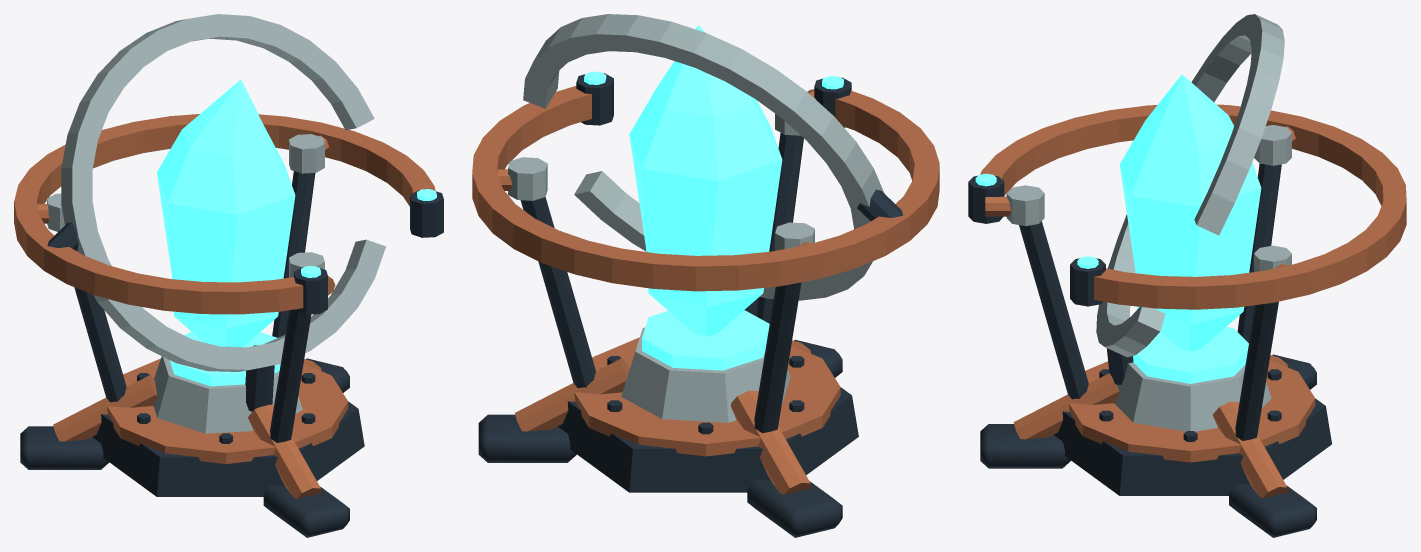
The picture shows the model from 3 angles, left to right: view 1: azimuth 30°, elevation 25°; view 2: azimuth 150°, elevation 25°; view 3: azimuth 270°, elevation 25°; orthographic projection. The views are drawn at different scales.
Visible parts, largest first — view 1: Faceted suspended energy prism, Inclined aluminium induction arc, Primary copper containment arc, Foundation • six sided plinth, Copper foundation rim, Reactor socket, Upright field support.002, Outrigger ground shoe.001, Outrigger ground shoe.002, Upright field support.001, Angled tripod brace.002, Angled tripod brace.001 (+10 smaller); view 2: Primary copper containment arc, Faceted suspended energy prism, Inclined aluminium induction arc, Foundation • six sided plinth, Copper foundation rim, Reactor socket, Luminous lower seat, Upright field support.001, Upright field support, Outrigger ground shoe, Outrigger ground shoe.001, Angled tripod brace.001 (+8 smaller); view 3: Primary copper containment arc, Faceted suspended energy prism, Inclined aluminium induction arc, Foundation • six sided plinth, Copper foundation rim, Reactor socket, Upright field support.002, Luminous lower seat, Upright field support, Outrigger ground shoe.002, Outrigger ground shoe, Angled tripod brace (+9 smaller).
Boxes of the visible parts, <box> form: Faceted suspended energy prism: <box>157,79,295,347</box>; Inclined aluminium induction arc: <box>61,14,385,371</box>; Primary copper containment arc: <box>14,114,435,314</box>; Foundation • six sided plinth: <box>92,401,364,496</box>; Copper foundation rim: <box>107,358,348,463</box>; Reactor socket: <box>153,356,302,433</box>; Upright field support.002: <box>270,309,311,442</box>; Outrigger ground shoe.001: <box>20,426,109,469</box>; Outrigger ground shoe.002: <box>263,485,349,537</box>; Upright field support.001: <box>74,287,126,402</box>; Angled tripod brace.002: <box>248,404,321,498</box>; Angled tripod brace.001: <box>53,375,157,441</box>; Primary copper containment arc: <box>472,86,939,291</box>; Faceted suspended energy prism: <box>629,25,782,336</box>; Inclined aluminium induction arc: <box>523,14,884,300</box>; Foundation • six sided plinth: <box>558,387,858,492</box>; Copper foundation rim: <box>574,337,840,456</box>; Reactor socket: <box>621,327,790,422</box>; Luminous lower seat: <box>642,310,769,370</box>; Upright field support.001: <box>754,282,801,433</box>; Upright field support: <box>520,197,595,387</box>; Outrigger ground shoe: <box>478,414,576,462</box>; Outrigger ground shoe.001: <box>747,479,842,537</box>; Angled tripod brace.001: <box>731,390,811,494</box>; Primary copper containment arc: <box>980,104,1406,309</box>; Faceted suspended energy prism: <box>1119,74,1261,351</box>; Inclined aluminium induction arc: <box>1096,14,1284,357</box>; Foundation • six sided plinth: <box>1054,398,1331,495</box>; Copper foundation rim: <box>1068,360,1315,462</box>; Reactor socket: <box>1114,362,1271,431</box>; Upright field support.002: <box>1019,221,1088,399</box>; Luminous lower seat: <box>1133,327,1248,383</box>; Upright field support: <box>1235,301,1278,440</box>; Outrigger ground shoe.002: <box>980,424,1070,468</box>; Outrigger ground shoe: <box>1229,484,1316,537</box>; Angled tripod brace: <box>1212,401,1288,497</box>.
Bounding box in the file's own units: 2.05 × 2.23 × 2.07.
